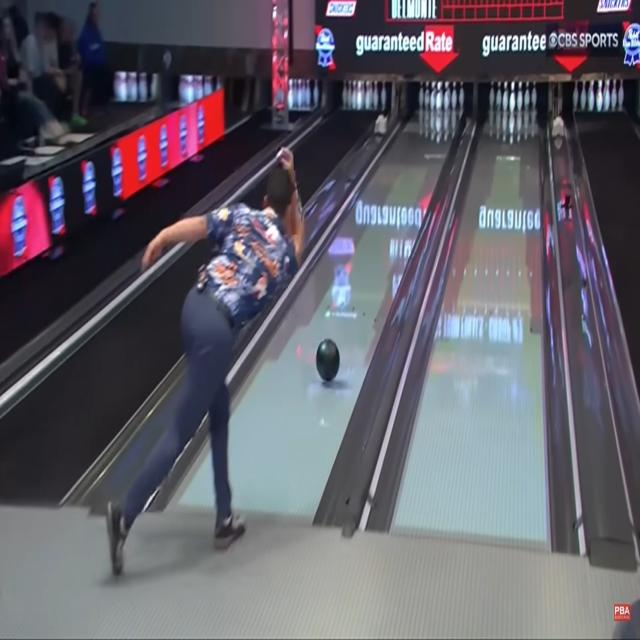alley: (229, 108, 462, 518)
balls: (315, 338, 340, 382)
bottle: (416, 80, 466, 111)
